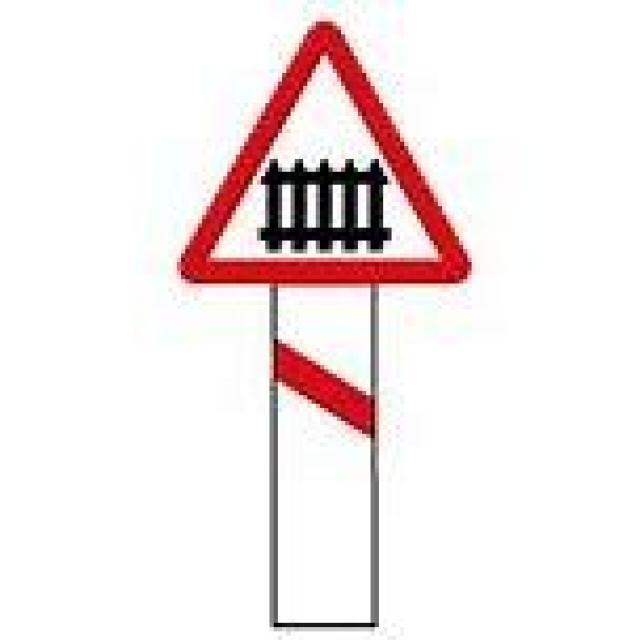guarded level crossing: (170, 17, 474, 285)
